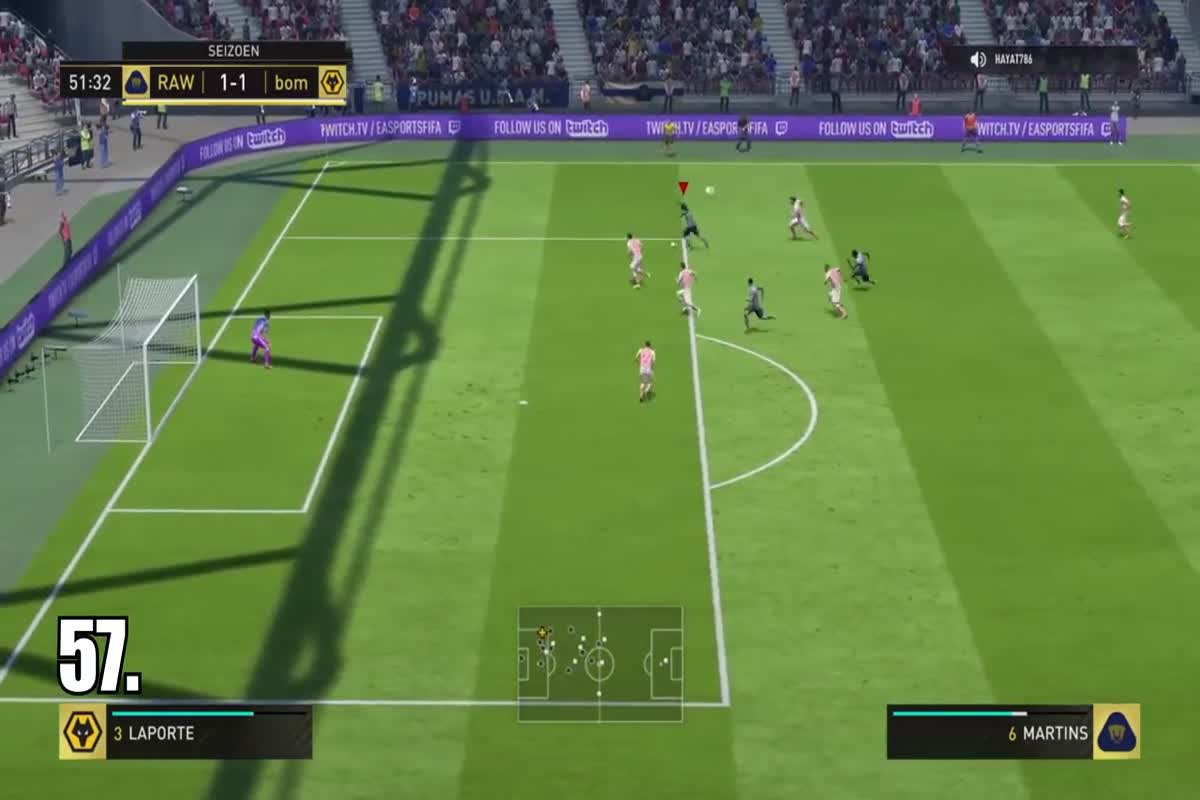ball: (665, 238, 683, 251)
